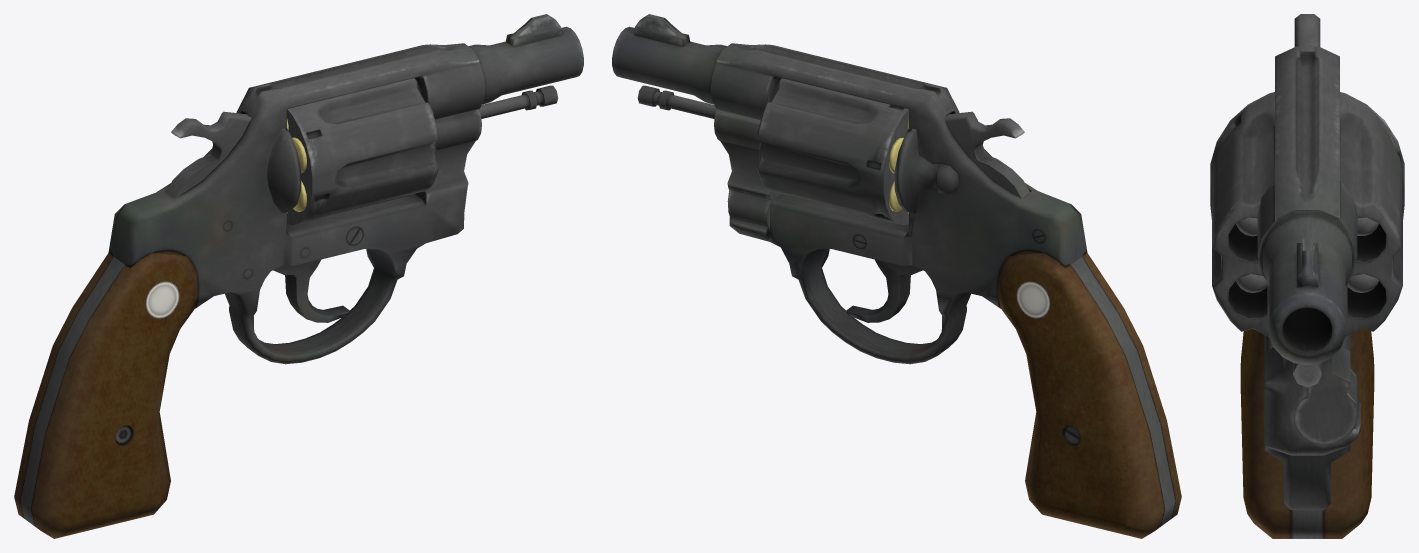
The model's file is revolver.glb.
The picture shows the model from 3 angles, left to right: view 1: azimuth 30°, elevation 25°; view 2: azimuth 150°, elevation 25°; view 3: azimuth 270°, elevation 25°; orthographic projection. The views are drawn at different scales.
Visible parts, largest first — view 1: Revolver; view 2: Revolver; view 3: Revolver.
Part boxes in pixels (left/top/right/bottom): Revolver: left=14, top=14, right=583, bottom=538; Revolver: left=612, top=14, right=1181, bottom=538; Revolver: left=1210, top=14, right=1404, bottom=538.
Size of the model in its own units: 0.1875 by 0.1287 by 0.0389.
2 materials, 2 textured.
